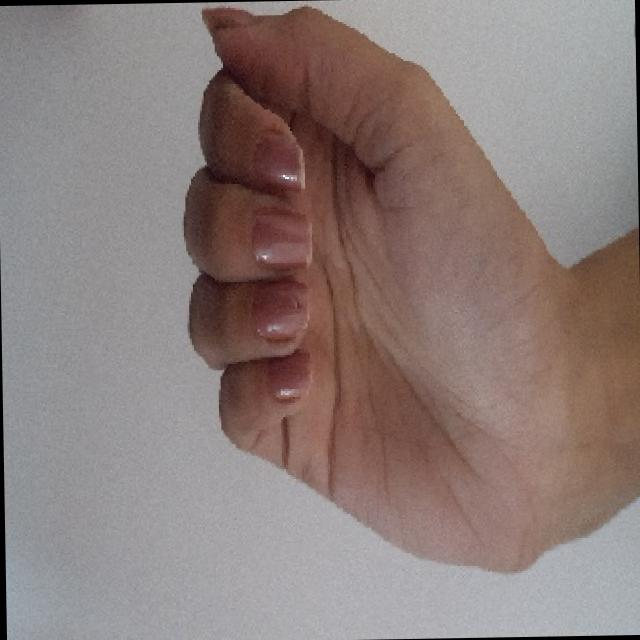Nail: (251, 211, 311, 271), (252, 279, 308, 341), (254, 137, 304, 189), (267, 350, 311, 400), (201, 8, 255, 33)
